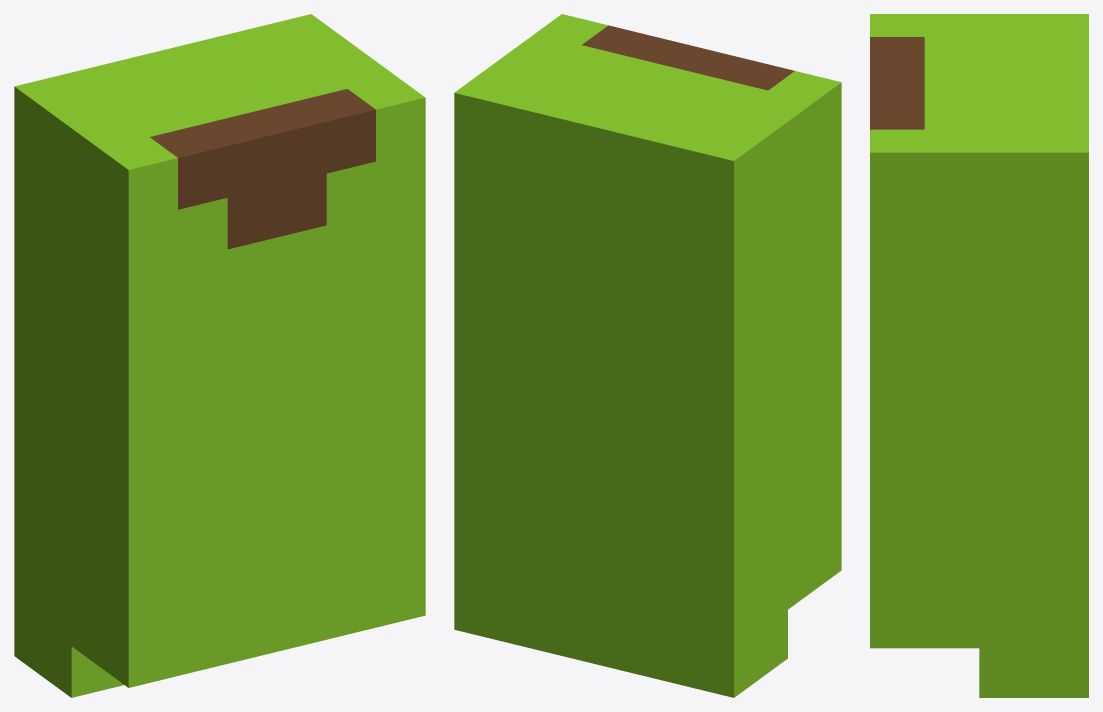
File: torso.obj
The picture shows the model from 3 angles, left to right: view 1: azimuth 30°, elevation 25°; view 2: azimuth 150°, elevation 25°; view 3: azimuth 270°, elevation 25°; orthographic projection. The views are drawn at different scales.
Size of the model in its own units: 0.6 by 1.1 by 0.4.
Materials: 1 (1 with a texture image).
